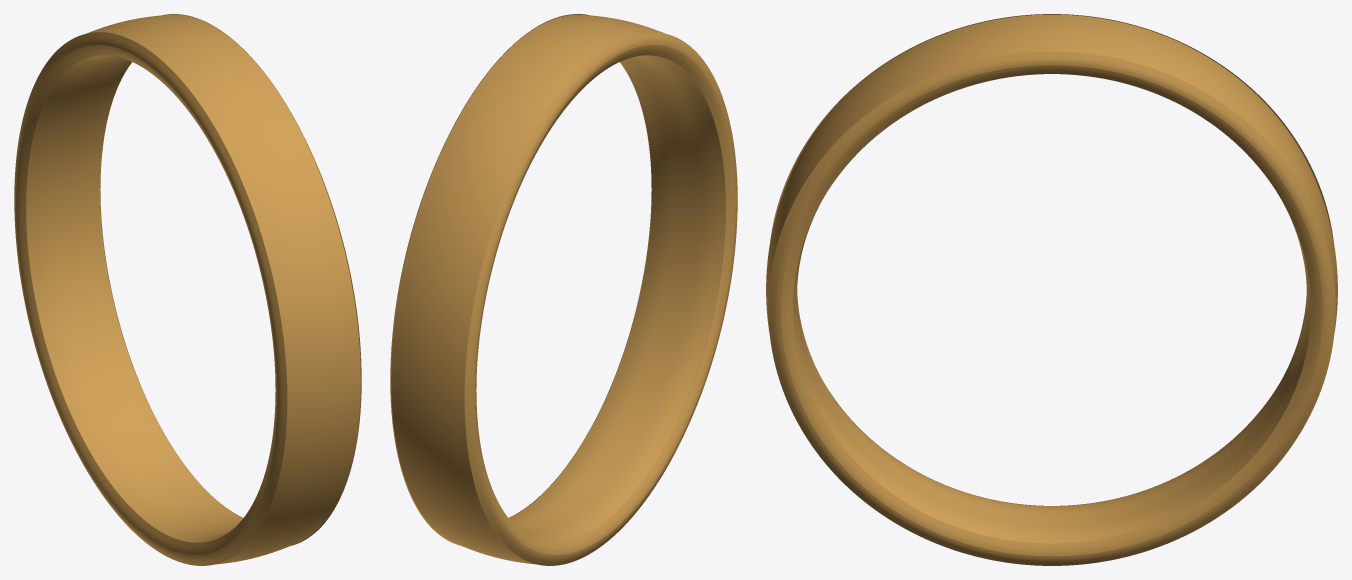
3 renders of one model, left to right at view 1: azimuth 30°, elevation 25°; view 2: azimuth 150°, elevation 25°; view 3: azimuth 270°, elevation 25°, orthographic. The views are drawn at different scales.
Parts seen in each view (by area): view 1: P4-Outer, P4-Inner, P4-Sides; view 2: P4-Outer, P4-Inner, P4-Sides; view 3: P4-Sides, P4-Outer, P4-Inner.
Boxes of the visible parts, box(x1,y1,x2,y2) form: P4-Outer: box(26, 14, 360, 564); P4-Inner: box(26, 55, 242, 542); P4-Sides: box(14, 14, 361, 565); P4-Outer: box(391, 14, 725, 564); P4-Inner: box(509, 55, 725, 542); P4-Sides: box(390, 14, 737, 565); P4-Sides: box(768, 14, 1335, 565); P4-Outer: box(766, 14, 1337, 543); P4-Inner: box(793, 208, 1310, 543).
Bounding box in the file's own units: 0.00399 × 0.0232 × 0.0231.
